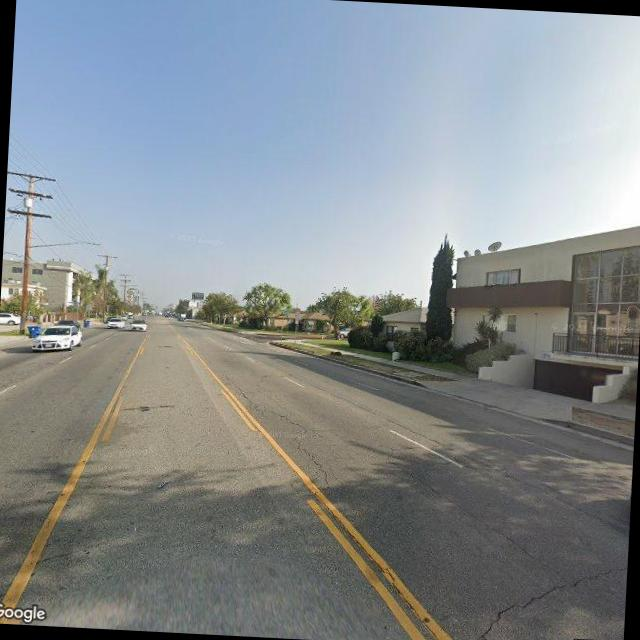crack: (469, 543, 624, 640), (222, 378, 336, 488), (118, 398, 178, 414)
